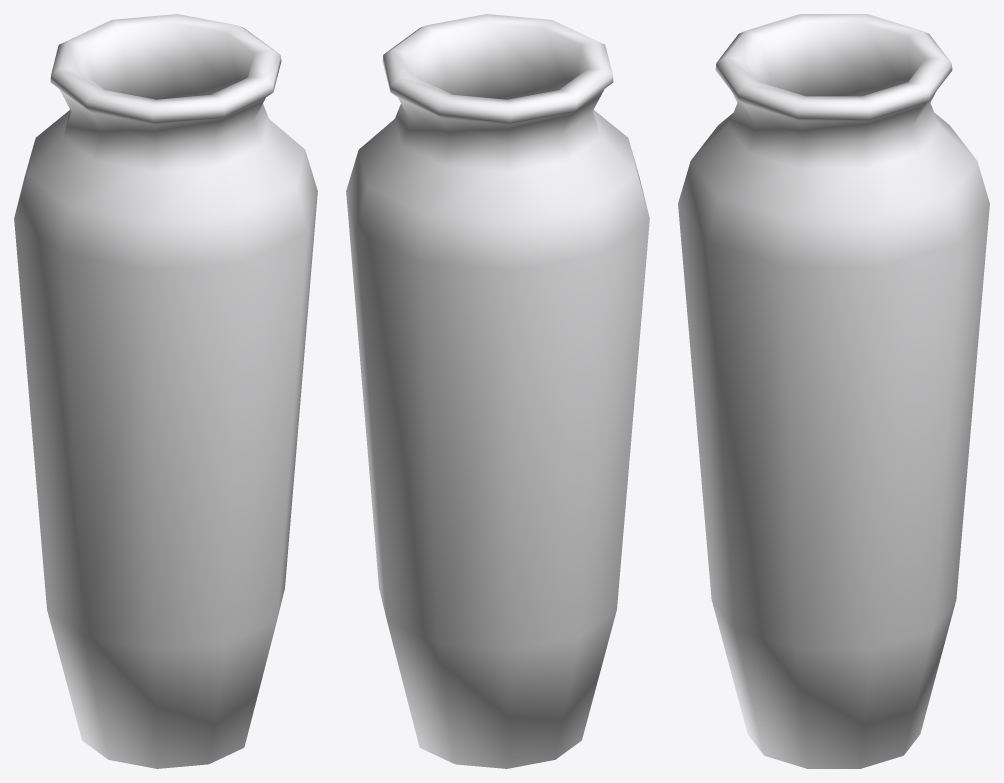
Rendered from frl_apartment_vase_01.glb.
3 views of the same model, side by side, from view 1: azimuth 30°, elevation 25°; view 2: azimuth 150°, elevation 25°; view 3: azimuth 270°, elevation 25° (orthographic).
Visible parts, largest first — view 1: frl_apartment_vase_01; view 2: frl_apartment_vase_01; view 3: frl_apartment_vase_01.
Part boxes in pixels (bbox=[...]): frl_apartment_vase_01: bbox=[14, 14, 317, 768]; frl_apartment_vase_01: bbox=[346, 14, 649, 768]; frl_apartment_vase_01: bbox=[678, 14, 989, 768].
Bounding box in the file's own units: 0.0823 × 0.207 × 0.0865.
Materials: 1 (1 with a texture image).
